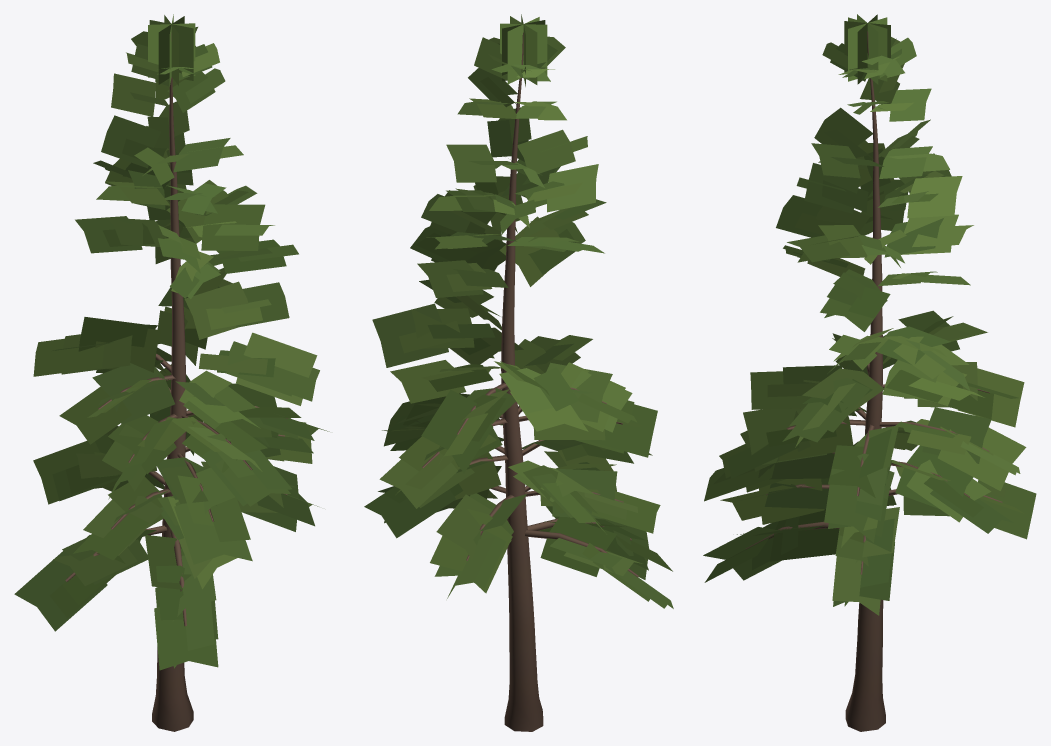
The model's file is conifer.larch.summer.glb.
The picture shows the model from 3 angles, left to right: view 1: azimuth 30°, elevation 25°; view 2: azimuth 150°, elevation 25°; view 3: azimuth 270°, elevation 25°; orthographic projection.
Visible parts, largest first — view 1: conifer_larch_summer; view 2: conifer_larch_summer; view 3: conifer_larch_summer.
Part boxes in pixels (x1,y1,x2,y2): conifer_larch_summer: (14, 14, 329, 731); conifer_larch_summer: (364, 14, 673, 731); conifer_larch_summer: (703, 14, 1036, 731).
Size of what is drawn, in the model's own units: 5.78 by 13.23 by 5.72.
